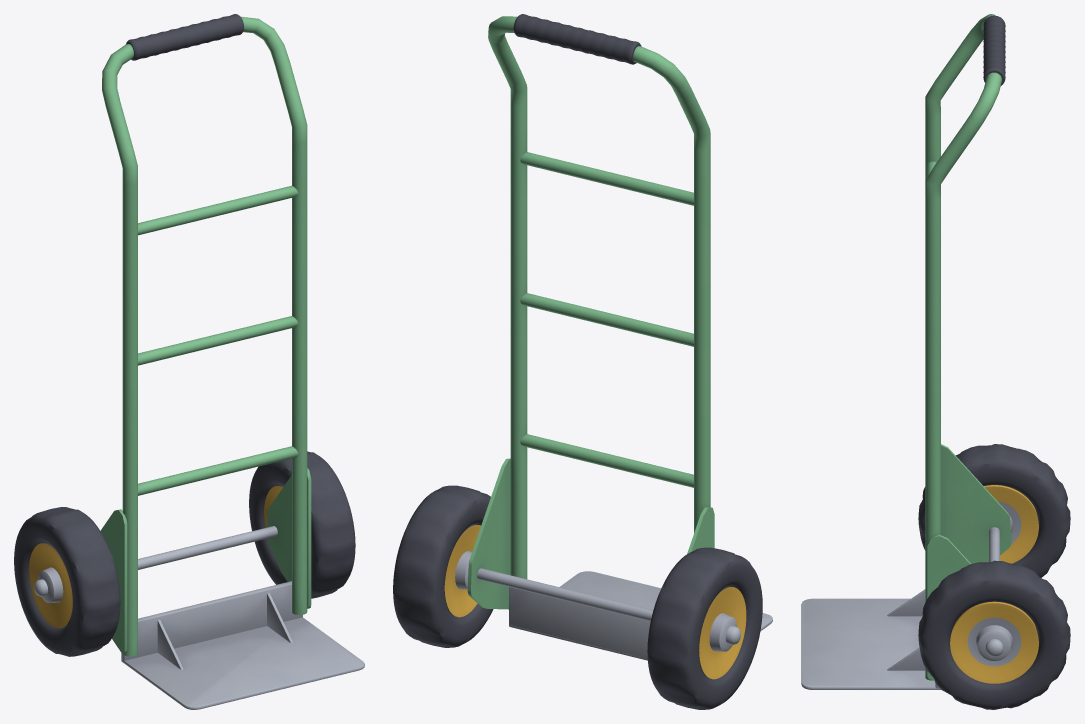
File: hand-truck.glb
The picture shows the model from 3 angles, left to right: view 1: azimuth 30°, elevation 25°; view 2: azimuth 150°, elevation 25°; view 3: azimuth 270°, elevation 25°; orthographic projection. The views are drawn at different scales.
Visible parts, largest first — view 1: hand-truck_body, hand-truck_wheel_left, hand-truck_wheel_right; view 2: hand-truck_body, hand-truck_wheel_left, hand-truck_wheel_right; view 3: hand-truck_body, hand-truck_wheel_right, hand-truck_wheel_left.
Part boxes in pixels (<box>): hand-truck_body: <box>34,14,364,709</box>; hand-truck_wheel_left: <box>14,507,120,656</box>; hand-truck_wheel_right: <box>249,451,355,598</box>; hand-truck_body: <box>467,14,772,660</box>; hand-truck_wheel_left: <box>647,547,762,709</box>; hand-truck_wheel_right: <box>393,485,493,647</box>; hand-truck_body: <box>801,14,1011,689</box>; hand-truck_wheel_right: <box>918,560,1070,709</box>; hand-truck_wheel_left: <box>918,444,1070,577</box>.
Bounding box in the file's own units: 0.599 × 1.14 × 0.46.
Materials: 3 (3 with a texture image).
